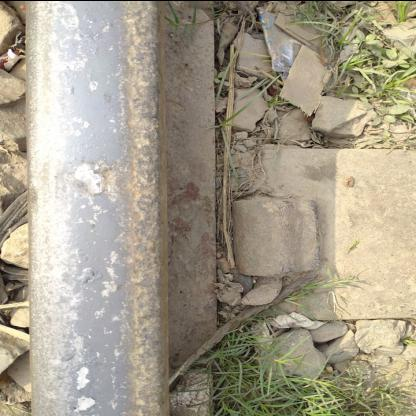Defective: (198, 173, 362, 312)
